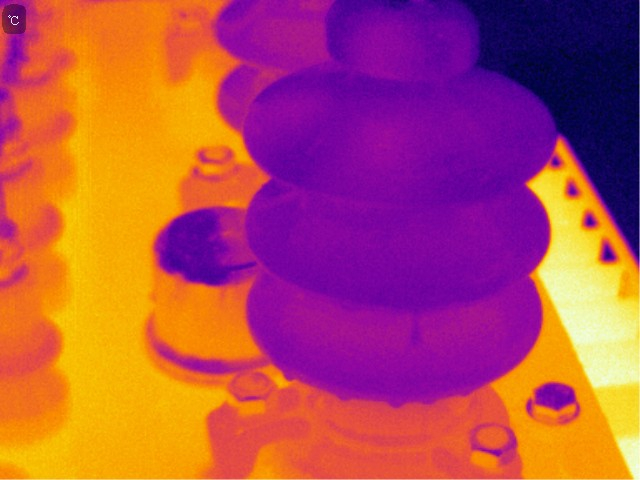Oil: (403, 318, 432, 351), (331, 385, 356, 404), (277, 366, 298, 384), (386, 396, 407, 413)
